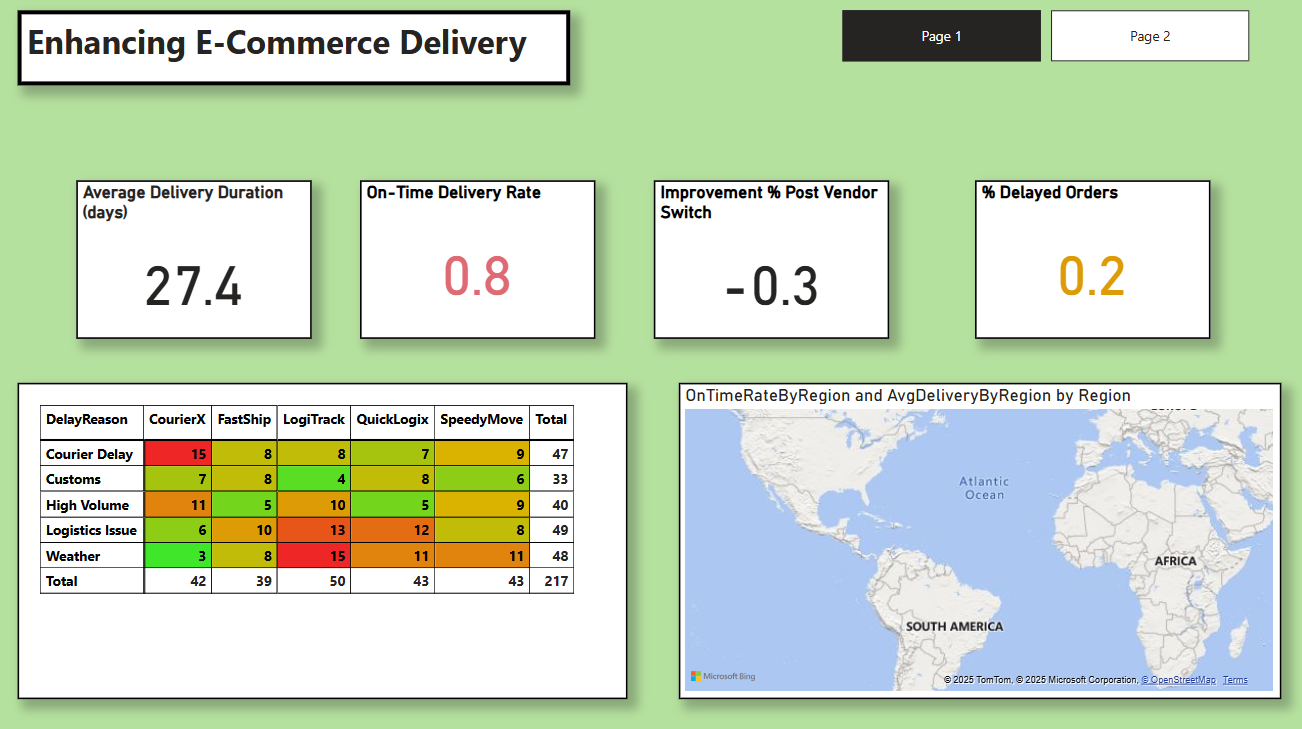

The dashboard page shown, as its layout file describes it:
{"tool":"powerbi","page":{"name":"Page 1","canvas":[1280,720],"ordinal":0},"visuals":[{"type":"card","title":"On-Time Delivery Rate","fields":{"Values":["couriers.On Time Delivery Rate"]},"box":[352.2,182.2,230,155],"z":0},{"type":"card","title":"Average Delivery Duration (days)","fields":{"Values":["Sum(couriers.AverageDeliveryDuration)"]},"box":[74.6,182.2,230,155.3],"z":1},{"type":"card","title":"% Delayed Orders","fields":{"Values":["Max(couriers.DelayedOrderRate)"]},"box":[953.8,182.2,230,155],"z":2},{"type":"card","title":"Improvement % Post Vendor Switch","fields":{"Values":["orders.ImprovementRate"]},"box":[639.5,182.2,230,155],"z":3},{"type":"textbox","box":[17.1,15.9,540.5,73.4],"z":4},{"type":"pivotTable","fields":{"Rows":["orders.DelayReason"],"Columns":["orders.Courier"],"Values":["orders.DelayReasonCount"]},"box":[17.1,380.3,596.7,309.4],"z":5},{"type":"filledMap","fields":{"Category":["orders.Region"]},"box":[664,380.3,589.4,309.4],"z":6},{"type":"pageNavigator","box":[824.2,15.9,399.9,50.1],"z":7}]}

Visuals, with their boxes in screenshot pixels (x1, y1, x2, y2), scaled from the page's 1280x720 canvas onto the 1302x729 screenshot:
"On-Time Delivery Rate" card: {"left": 358, "top": 184, "right": 592, "bottom": 341}
"Average Delivery Duration (days)" card: {"left": 76, "top": 184, "right": 310, "bottom": 342}
"% Delayed Orders" card: {"left": 970, "top": 184, "right": 1204, "bottom": 341}
"Improvement % Post Vendor Switch" card: {"left": 650, "top": 184, "right": 884, "bottom": 341}
textbox: {"left": 17, "top": 16, "right": 567, "bottom": 90}
pivotTable - orders.DelayReason x orders.Courier: {"left": 17, "top": 385, "right": 624, "bottom": 698}
filledMap - orders.Region: {"left": 675, "top": 385, "right": 1275, "bottom": 698}
pageNavigator: {"left": 838, "top": 16, "right": 1245, "bottom": 67}
